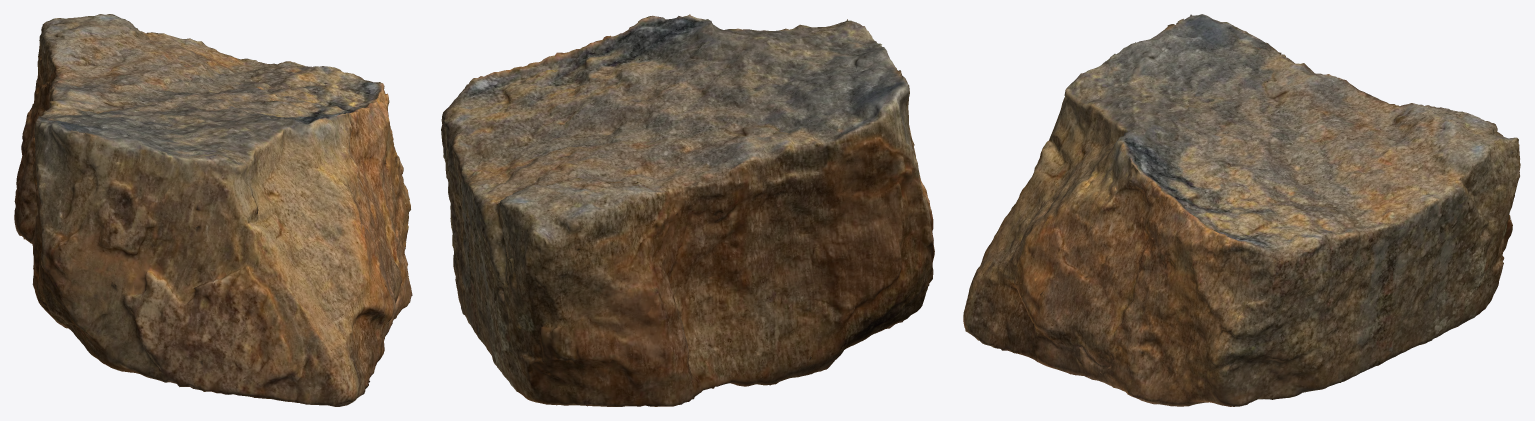
The model's file is namaqualand-boulder-03.glb.
3 views of the same model, side by side, from view 1: azimuth 30°, elevation 25°; view 2: azimuth 150°, elevation 25°; view 3: azimuth 270°, elevation 25° (orthographic). The views are drawn at different scales.
Visible parts, largest first — view 1: boulder_03_LOD0; view 2: boulder_03_LOD0; view 3: boulder_03_LOD0.
Boxes of the visible parts, box(x1,y1,x2,y2) form: boulder_03_LOD0: box(14, 14, 412, 406); boulder_03_LOD0: box(441, 14, 934, 406); boulder_03_LOD0: box(963, 14, 1520, 406).
Bounding box in the file's own units: 2.41 × 1.47 × 3.07.
Materials: 1 (1 with a texture image).
